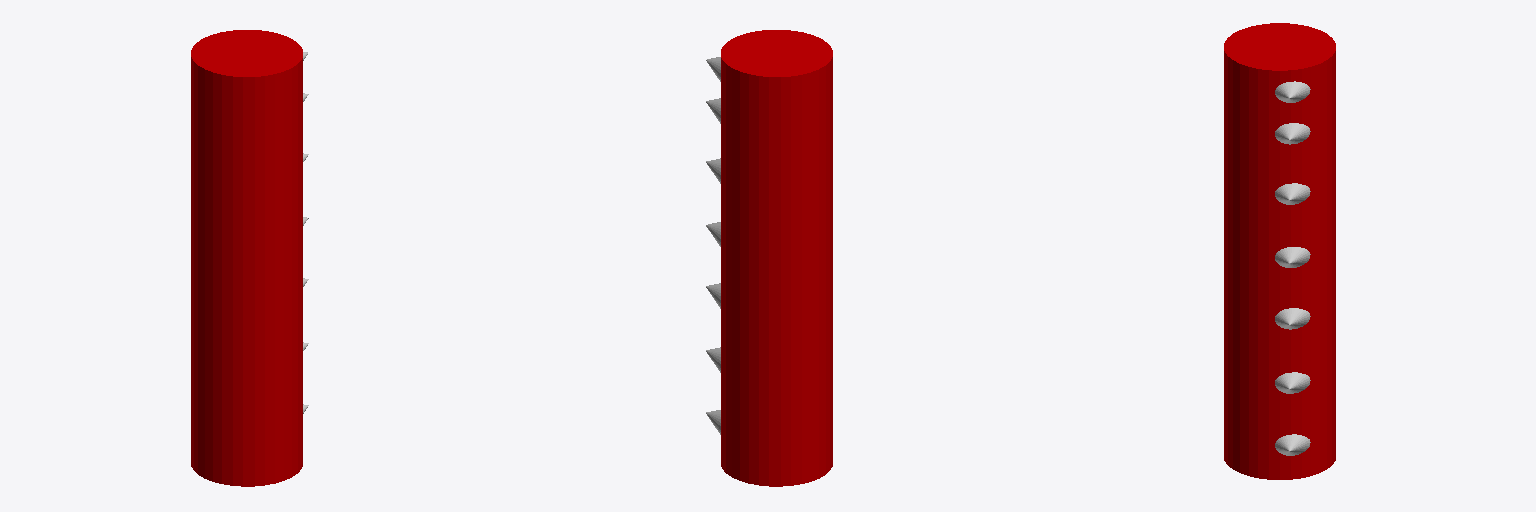
File: tik.obj
3 renders of one model, left to right at view 1: azimuth 30°, elevation 25°; view 2: azimuth 150°, elevation 25°; view 3: azimuth 270°, elevation 25°, orthographic.
Parts seen in each view (by area): view 1: Cylinder; view 2: Cylinder; view 3: Cylinder, Cone.004, Cone.001, Cone.002, Cone.003, Cone.005, Cone, Cone.006.
Part boxes in pixels (bbox=[...]): Cylinder: bbox=[191, 30, 302, 486]; Cylinder: bbox=[721, 30, 832, 486]; Cylinder: bbox=[1224, 23, 1335, 479]; Cone.004: bbox=[1275, 183, 1310, 204]; Cone.001: bbox=[1275, 372, 1310, 393]; Cone.002: bbox=[1275, 308, 1310, 329]; Cone.003: bbox=[1275, 247, 1310, 267]; Cone.005: bbox=[1275, 123, 1310, 144]; Cone: bbox=[1275, 434, 1310, 455]; Cone.006: bbox=[1275, 81, 1310, 102].
Bounding box in the file's own units: 2.36 × 8 × 2.